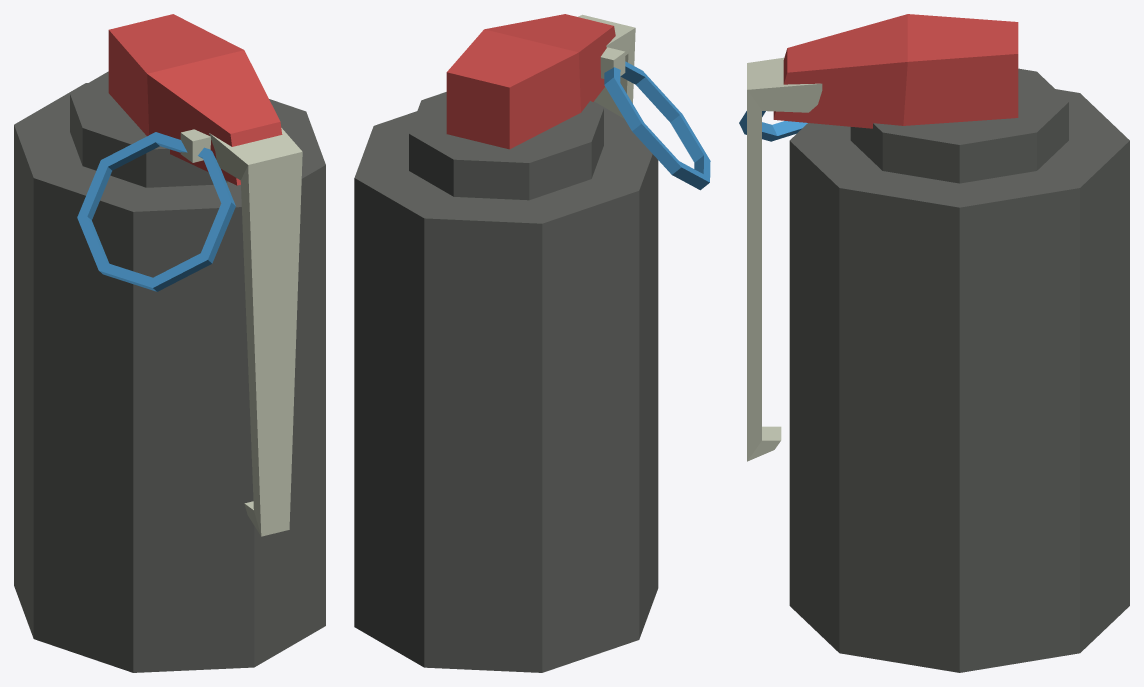
Rendered from Smoke_Granade.fbx.
The picture shows the model from 3 angles, left to right: view 1: azimuth 30°, elevation 25°; view 2: azimuth 150°, elevation 25°; view 3: azimuth 270°, elevation 25°; orthographic projection. The views are drawn at different scales.
Visible parts, largest first — view 1: Circle.001; view 2: Circle.001; view 3: Circle.001.
Boxes of the visible parts, <box> form: Circle.001: <box>14,14,325,672</box>; Circle.001: <box>354,14,710,672</box>; Circle.001: <box>739,14,1129,672</box>.
Bounding box in the file's own units: 47.27 × 91.97 × 57.37.
